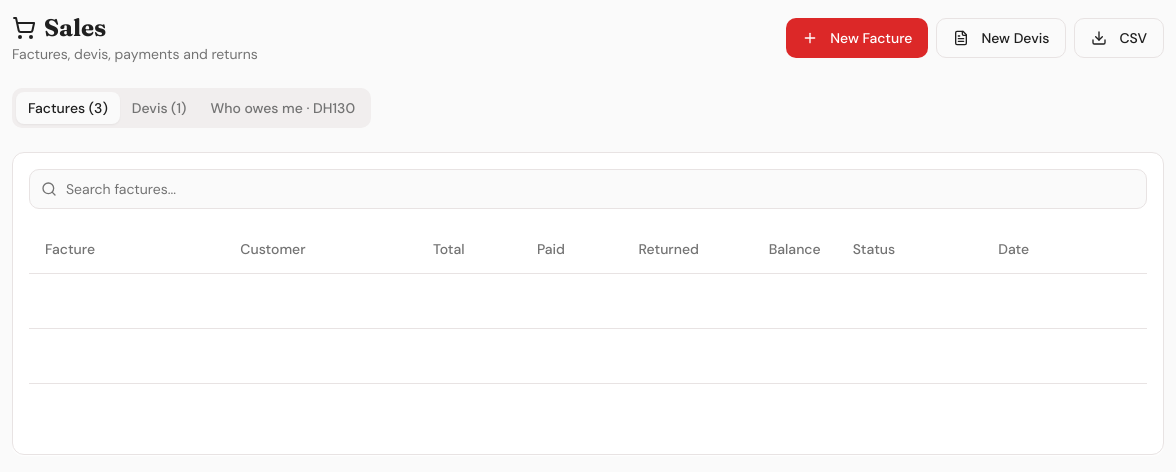
Test: keeps factures and devis in their own tabs
Expected: the text "DV-2026-0001" is not shown
Press the mouse on the tab "Devis (1)": [159, 108] box [120,92,198,124]
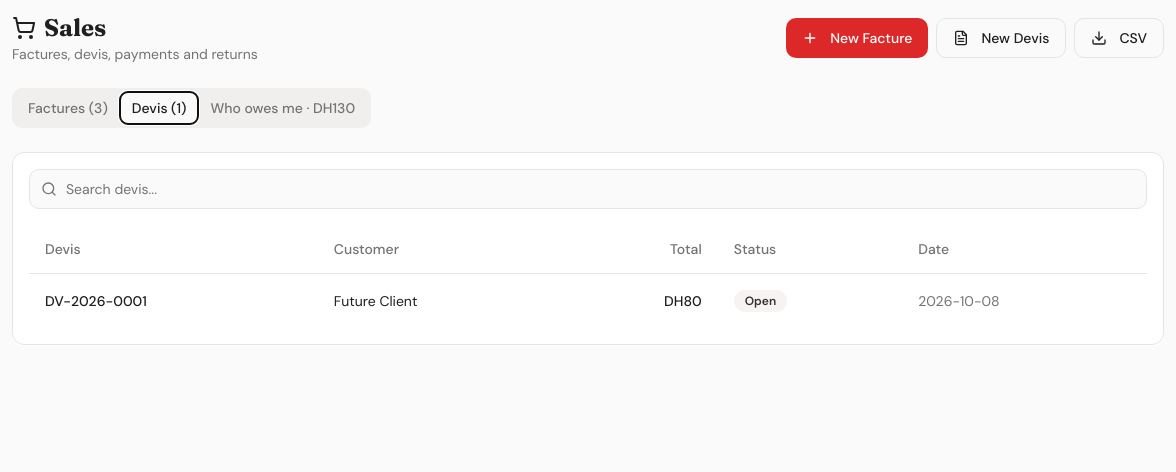
Now the text "DV-2026-0001" is shown, box [29,273,318,328]
Now the text "Open" is shown, box [734,290,787,312]
